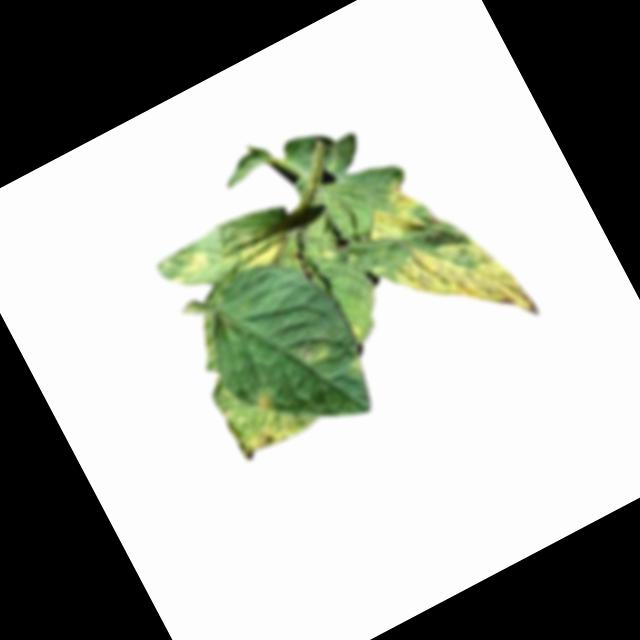Leaf_Mold: (384, 207, 542, 366), (350, 173, 435, 253), (229, 397, 314, 466), (227, 217, 292, 278), (154, 238, 217, 293), (253, 387, 277, 414)
